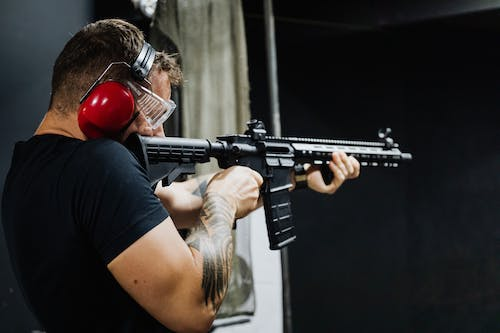gun: (120, 120, 414, 252)
